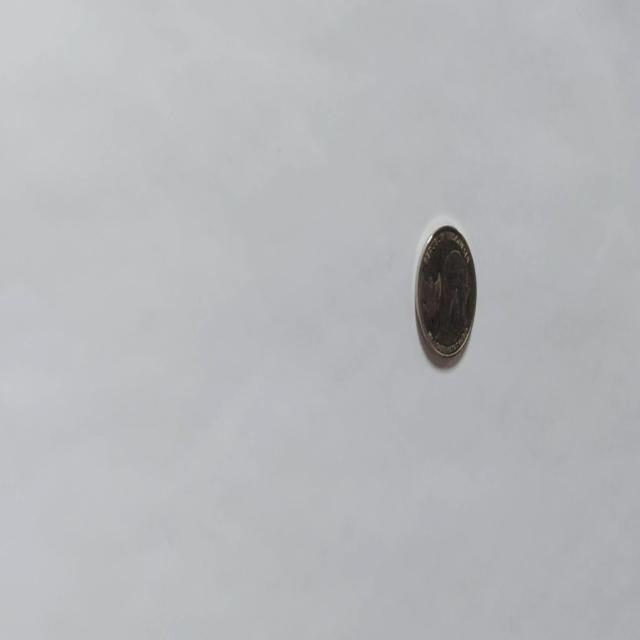seribu rupiah koin: (413, 220, 478, 362)
